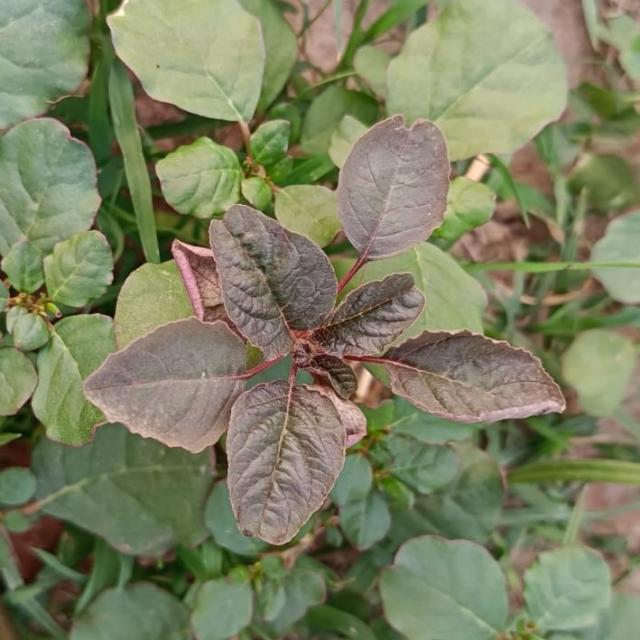plant: (85, 116, 564, 544)
